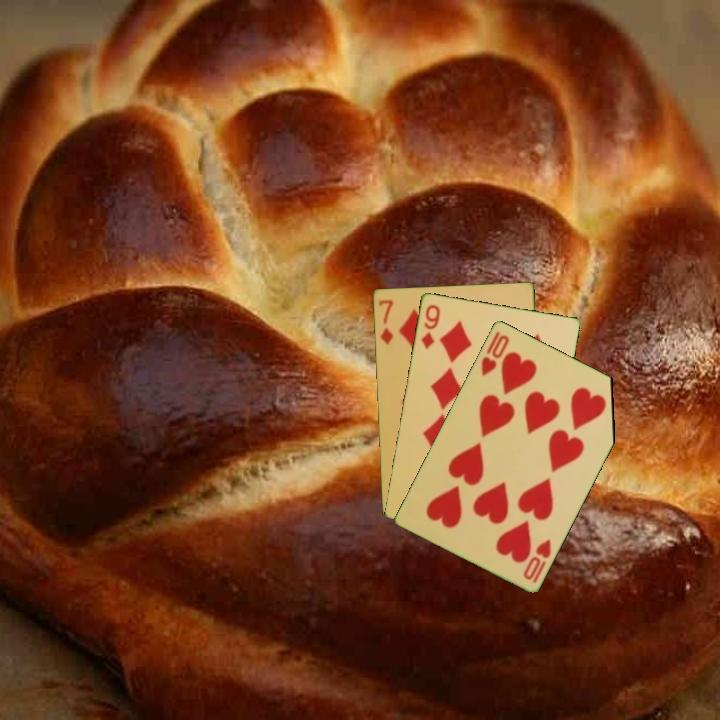10h: (477, 327, 512, 379), (519, 535, 554, 585)
7d: (375, 296, 396, 347)
9d: (417, 301, 443, 351)
